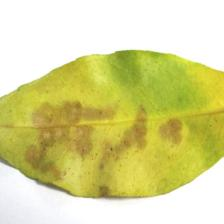black spot: (18, 94, 190, 183)
